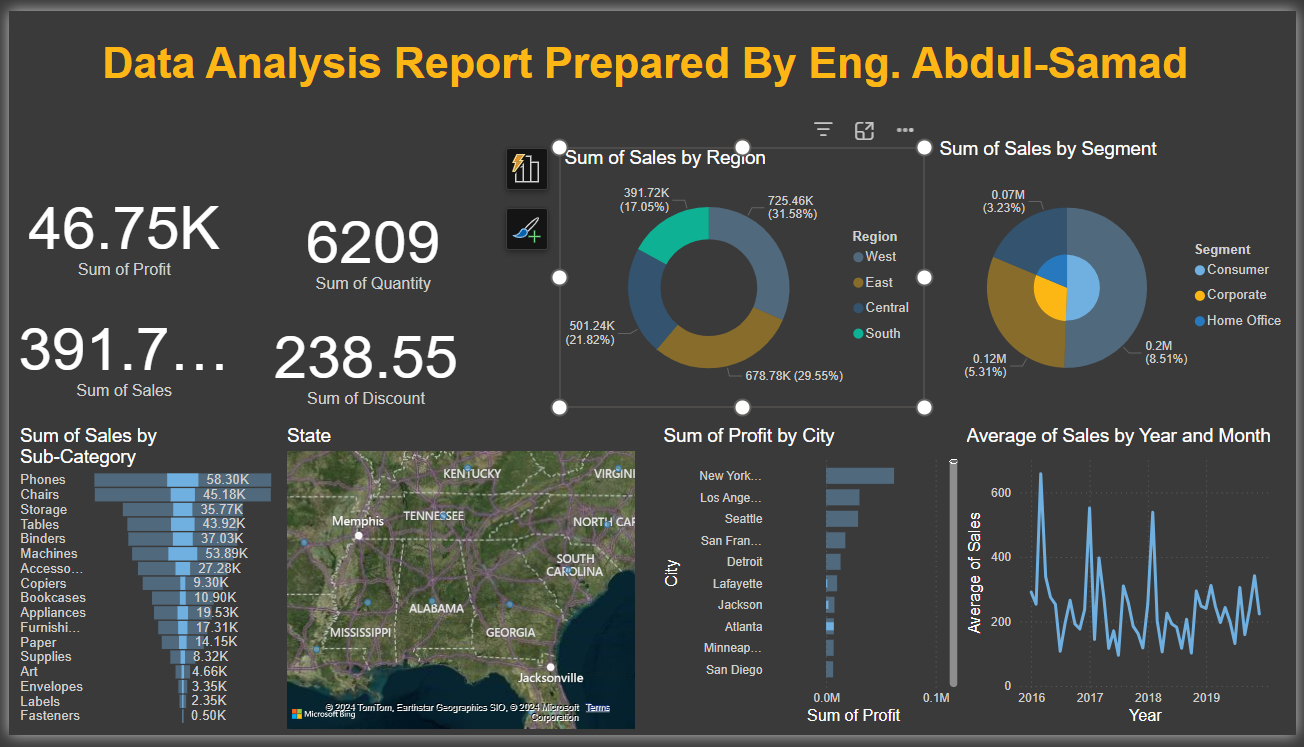

Layout of this report page (visuals, bound fields, positions):
{"tool":"powerbi","page":{"name":"01_report","canvas":[1280,720],"ordinal":0},"visuals":[{"type":"donutChart","fields":{"Category":["Orders.Region"],"Y":["Sum(Orders.Sales)"]},"box":[547.9,136.1,362.4,257.6],"z":0},{"type":"funnel","fields":{"Category":["Orders.Sub-Category"],"Y":["Sum(Orders.Sales)"]},"box":[6.3,412.7,264.6,302.4],"z":1000},{"type":"clusteredBarChart","fields":{"Category":["Orders.City"],"Y":["Sum(Orders.Profit)"]},"box":[645.8,412.7,302.4,302.4],"z":2000},{"type":"map","fields":{"Category":["Orders.State"]},"box":[270.9,412.7,356,307.1],"z":3000},{"type":"pieChart","fields":{"Category":["Orders.Segment"],"Y":["Sum(Orders.Sales)"]},"box":[921.4,127.6,359.1,275.6],"z":4000},{"type":"lineChart","fields":{"Category":["Orders.Order Date.Variation.Date Hierarchy.Year","Orders.Order Date.Variation.Date Hierarchy.Month"],"Y":["Avg(Orders.Sales)"]},"box":[948.2,412.7,315,302.4],"z":5000},{"type":"card","fields":{"Values":["Sum(Orders.Profit)"]},"box":[0.6,165.2,228.5,107.7],"z":6000},{"type":"card","fields":{"Values":["Sum(Orders.Quantity)"]},"box":[275.7,181.2,171.8,106.3],"z":7000},{"type":"card","fields":{"Values":["Sum(Orders.Discount)"]},"box":[251,287.5,208.1,119.4],"z":8000},{"type":"card","fields":{"Values":["Sum(Orders.Sales)"]},"box":[0.6,272.9,228.5,133.9],"z":9000},{"type":"textbox","box":[3.2,22.1,1260.1,105.5],"z":10000}]}

Visuals, with their boxes in screenshot pixels (x1, y1, x2, y2), scaled from the page's 1280x720 canvas onto the 1304x747 screenshot:
donutChart - Orders.Region x Sum(Orders.Sales): locate(558, 141, 927, 408)
funnel - Orders.Sub-Category x Sum(Orders.Sales): locate(6, 428, 276, 742)
clusteredBarChart - Orders.City x Sum(Orders.Profit): locate(658, 428, 966, 742)
map - Orders.State: locate(276, 428, 639, 746)
pieChart - Orders.Segment x Sum(Orders.Sales): locate(939, 132, 1303, 418)
lineChart - Orders.Order Date.Variation.Date Hierarchy.Year x Orders.Order Date.Variation.Date Hierarchy.Month: locate(966, 428, 1287, 742)
card - Sum(Orders.Profit): locate(1, 171, 233, 283)
card - Sum(Orders.Quantity): locate(281, 188, 456, 298)
card - Sum(Orders.Discount): locate(256, 298, 468, 422)
card - Sum(Orders.Sales): locate(1, 283, 233, 422)
textbox: locate(3, 23, 1287, 132)
